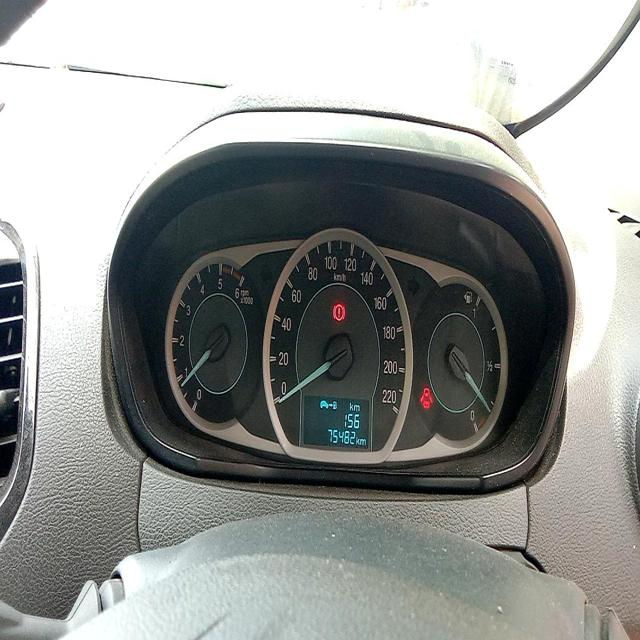odometer: (325, 427, 356, 448)
